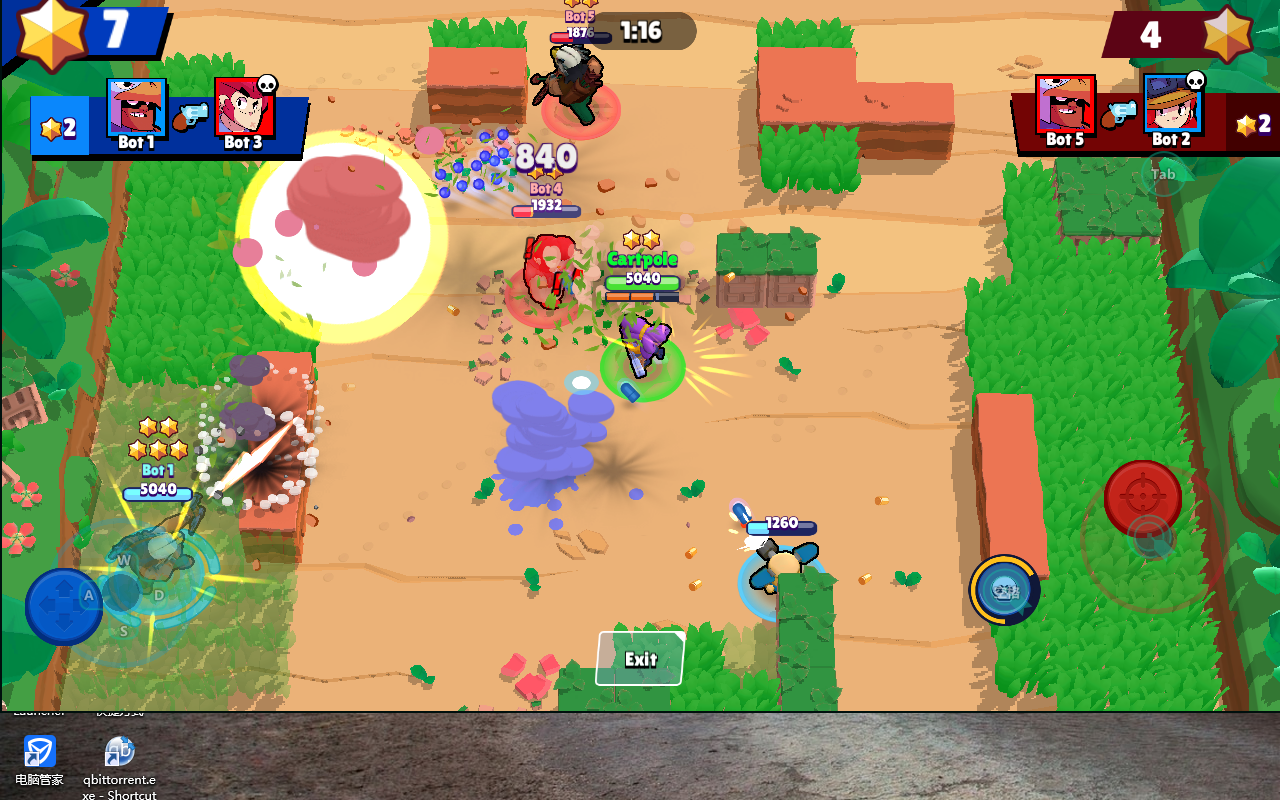current_player: (599, 336, 685, 400)
